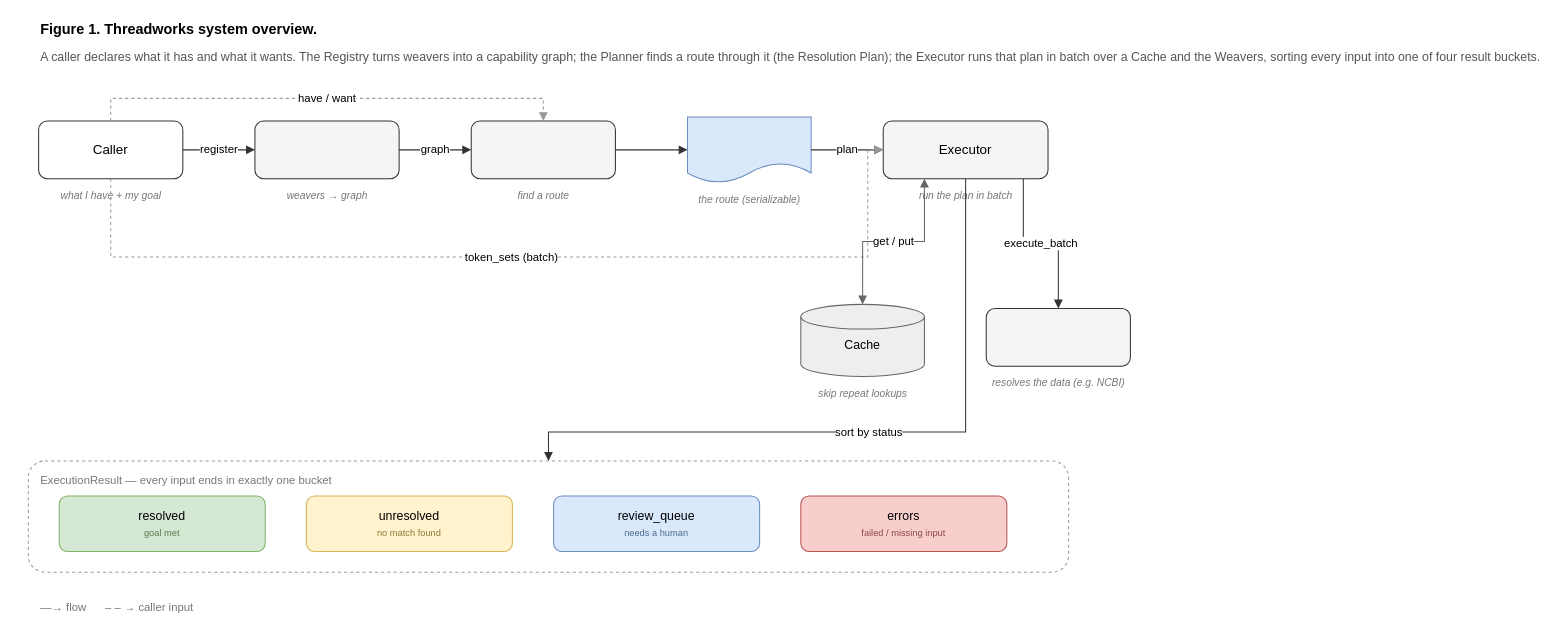
The diagram is 1557 pixels wide and 634 high, and some of its shapes have lost their labels. Each missing label, with the box of its shape:
Planner: (470, 120, 615, 179)
Registry: (254, 120, 399, 179)
Resolution Plan: (686, 116, 811, 183)
Weaver: (985, 307, 1130, 366)
